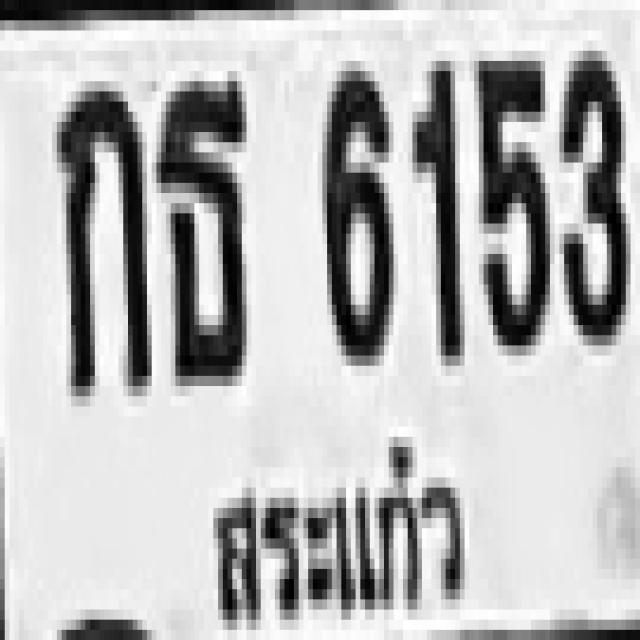1: (408, 51, 455, 356)
10GorGai: (52, 81, 147, 386)
3: (554, 41, 626, 335)
33ThorThong: (154, 71, 244, 376)
5: (474, 51, 545, 345)
6: (317, 61, 388, 356)
SaKaeo: (184, 420, 476, 632)
